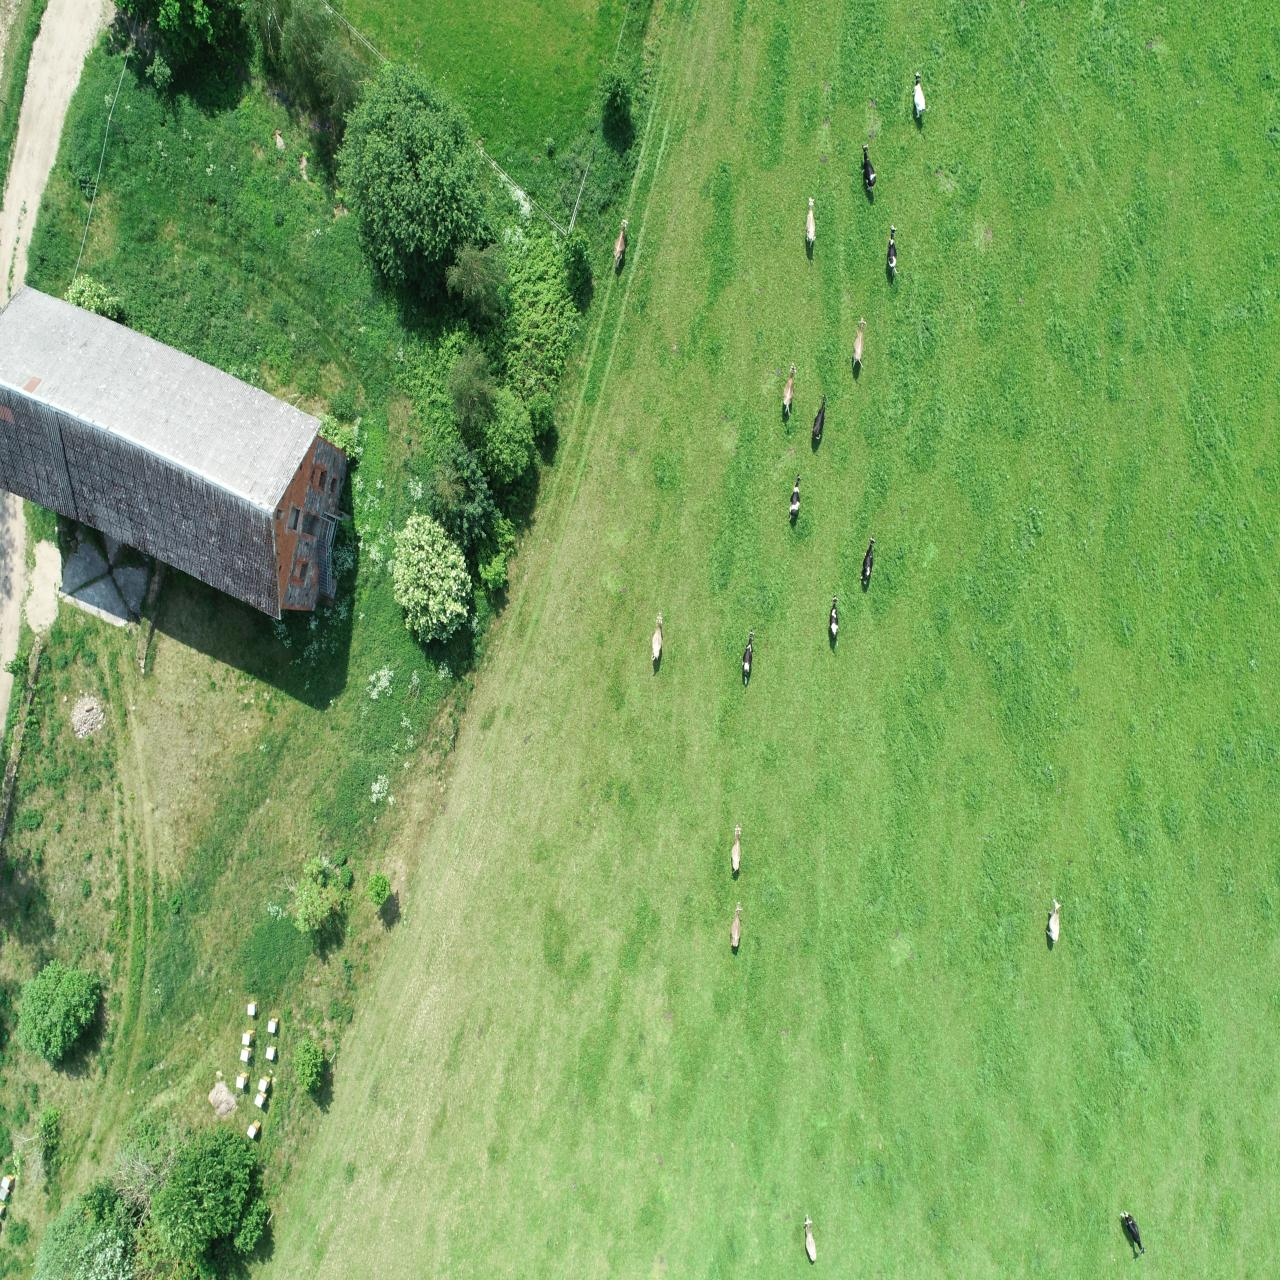cow: (1118, 1208, 1149, 1262), (646, 608, 669, 673), (824, 590, 845, 658), (855, 141, 880, 196), (778, 361, 802, 420), (910, 69, 933, 124), (785, 471, 808, 529), (738, 627, 757, 693), (1042, 896, 1064, 949), (611, 216, 631, 275), (858, 531, 878, 590), (727, 819, 747, 877), (885, 222, 904, 282), (850, 314, 869, 374), (799, 1211, 818, 1267), (802, 195, 821, 251), (728, 900, 748, 951), (810, 392, 830, 442)
